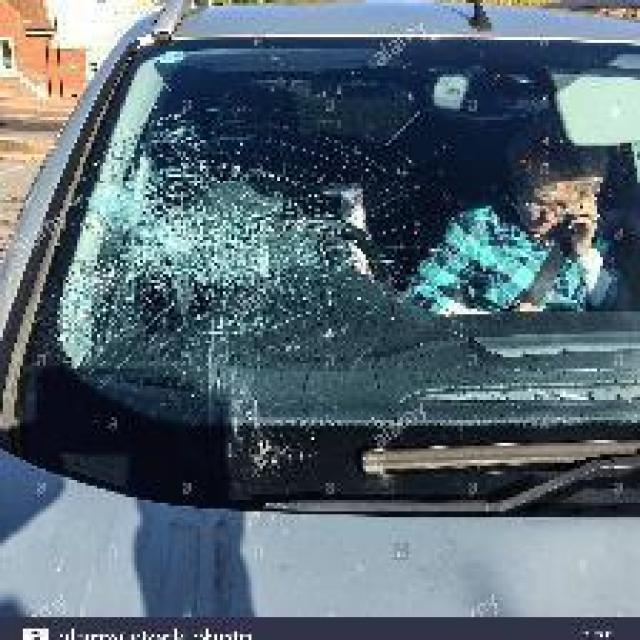damaged: (49, 142, 418, 492)
